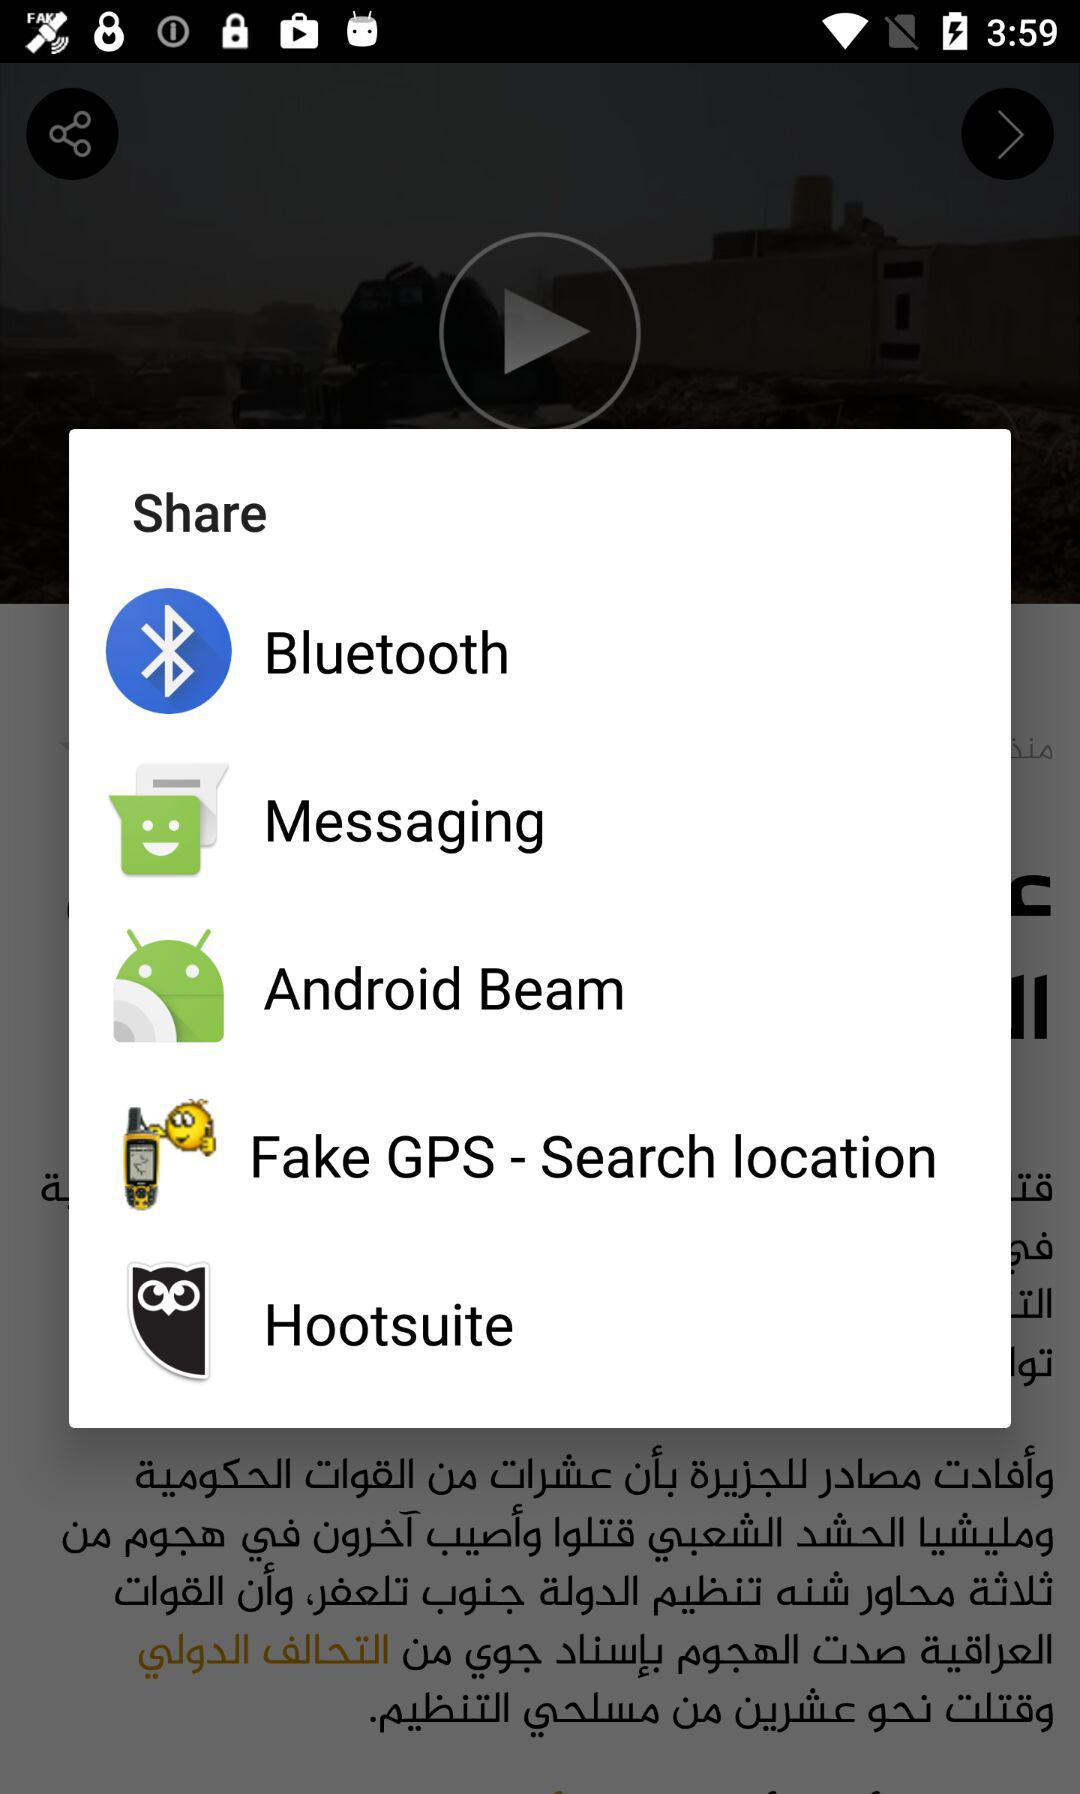Icon: (441, 229, 639, 429), (106, 588, 234, 716), (26, 87, 122, 183), (960, 87, 1054, 182)
Image: (108, 762, 232, 879), (111, 920, 225, 1044), (120, 1097, 219, 1214), (126, 1260, 213, 1383)
Modal: (69, 429, 1012, 1429)
Text: (252, 1133, 937, 1183), (264, 965, 624, 1014), (266, 797, 544, 856), (268, 1302, 512, 1349), (266, 629, 509, 677), (133, 491, 268, 536)
UpperTaskBar: (1, 1, 1080, 64)
